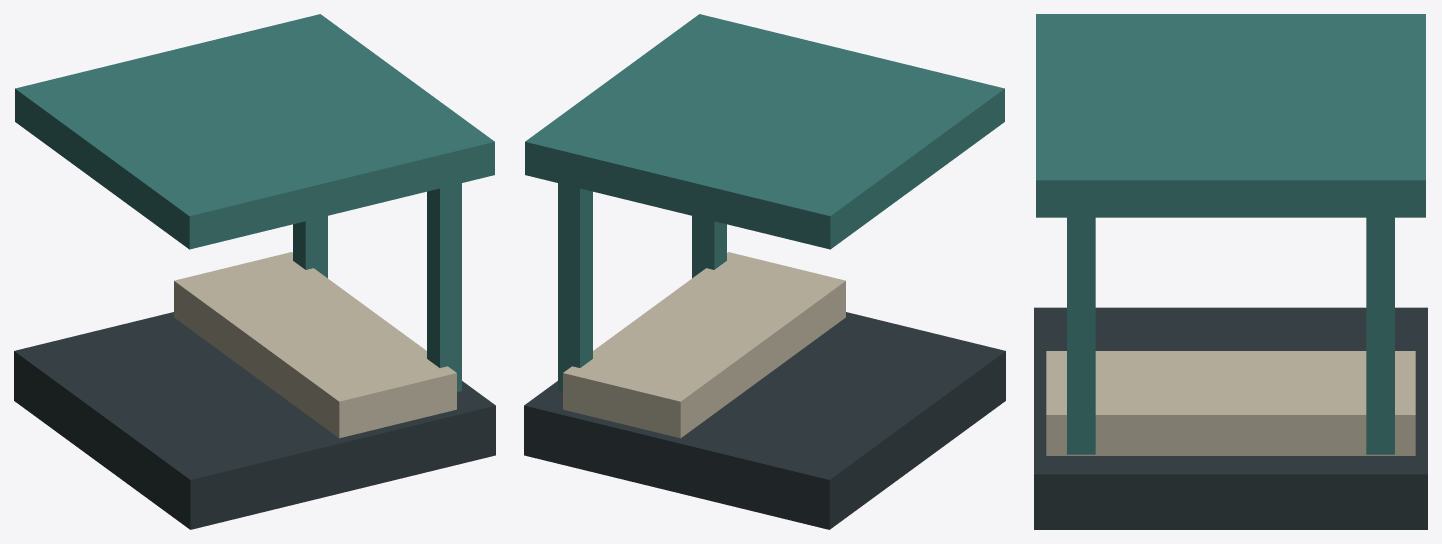
The model's file is station-lod1.454e6d345b99.glb.
3 renders of one model, left to right at view 1: azimuth 30°, elevation 25°; view 2: azimuth 150°, elevation 25°; view 3: azimuth 270°, elevation 25°, orthographic. The views are drawn at different scales.
Parts seen in each view (by area): view 1: body; view 2: body; view 3: body.
Boxes of the visible parts, x1,y1,x2,y2 form: body: [14, 14, 495, 529]; body: [524, 14, 1005, 529]; body: [1034, 14, 1427, 529].
Bounding box in the file's own units: 1.92 × 1.88 × 1.92.
